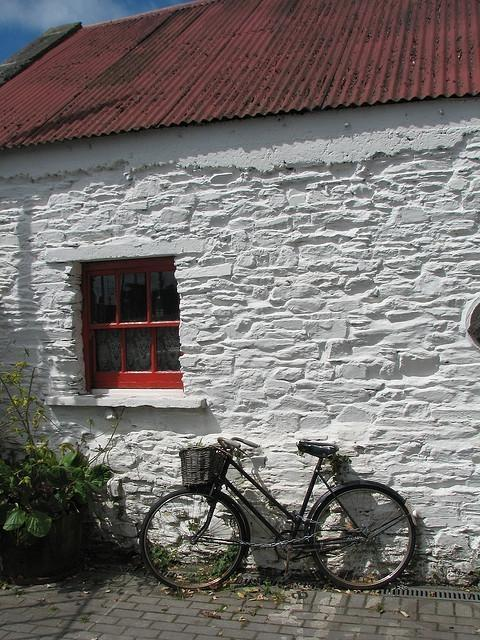bicycle: (139, 432, 421, 593)
